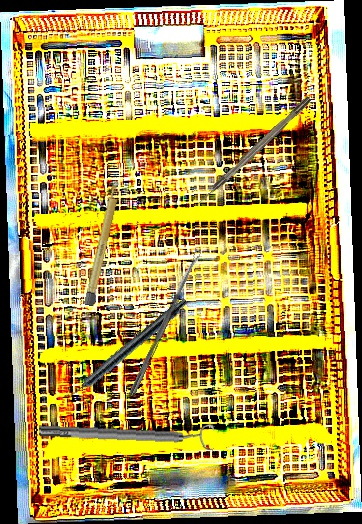Fixation Ring: (38, 414, 215, 454)
Handpiece: (61, 293, 190, 406)
Hook Surgical: (193, 95, 313, 209)
Scalpel Handle: (83, 179, 123, 307)
Surgical Spoon: (128, 249, 203, 398)
